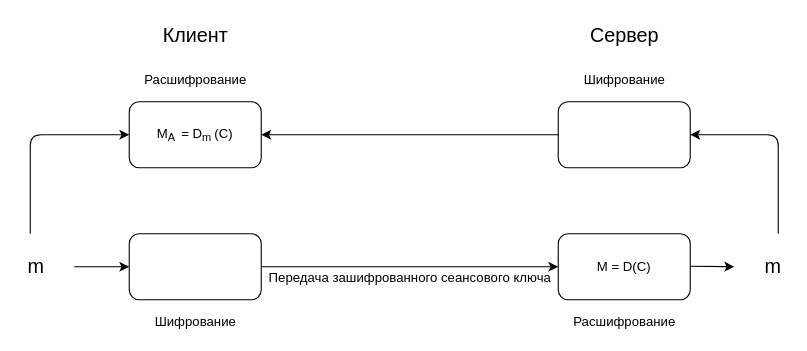
This 807x351 diagram has some shape labels left out. Each missing label, with the box of its shape:
C = E m (M A ): (557, 101, 690, 168)
C = E(M): (128, 233, 261, 300)
